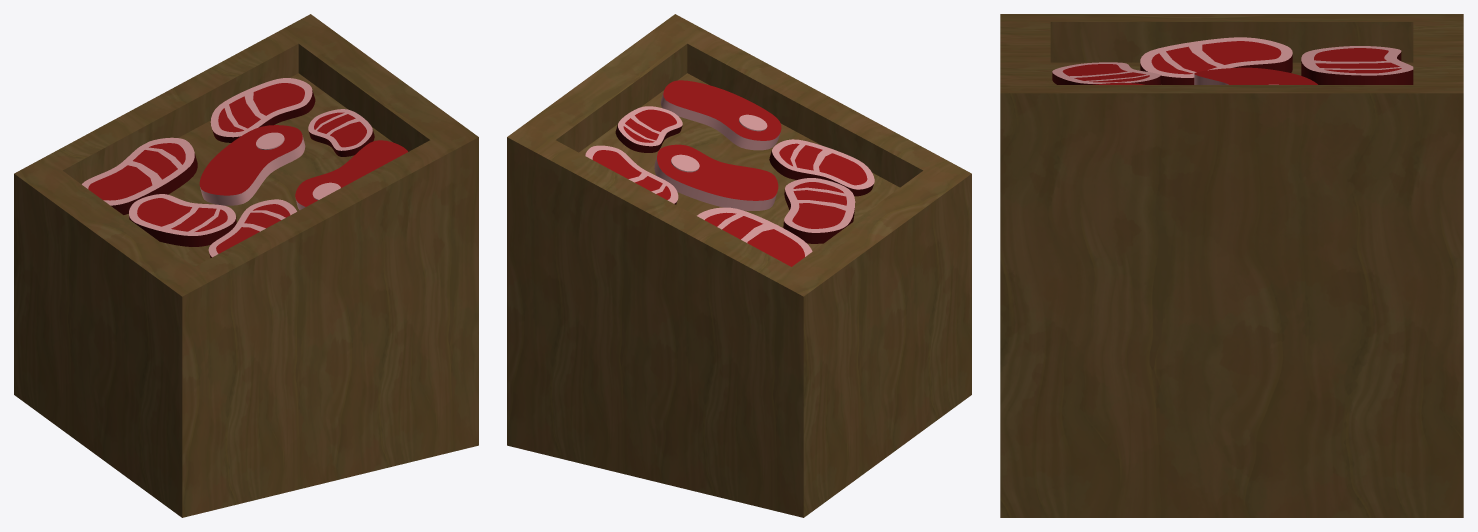
The model's file is CARNE_SPAWNER.fbx.
The picture shows the model from 3 angles, left to right: view 1: azimuth 30°, elevation 25°; view 2: azimuth 150°, elevation 25°; view 3: azimuth 270°, elevation 25°; orthographic projection. The views are drawn at different scales.
Parts seen in each view (by area): view 1: CARNE_SPAWNER_PRP; view 2: CARNE_SPAWNER_PRP; view 3: CARNE_SPAWNER_PRP.
Boxes of the visible parts, x1=… form: CARNE_SPAWNER_PRP: x1=14, y1=14, x2=478, y2=517; CARNE_SPAWNER_PRP: x1=507, y1=14, x2=971, y2=517; CARNE_SPAWNER_PRP: x1=1000, y1=14, x2=1463, y2=517.
Bounding box in the file's own units: 47.33 × 47.02 × 46.47.
4 materials, 1 textured.
